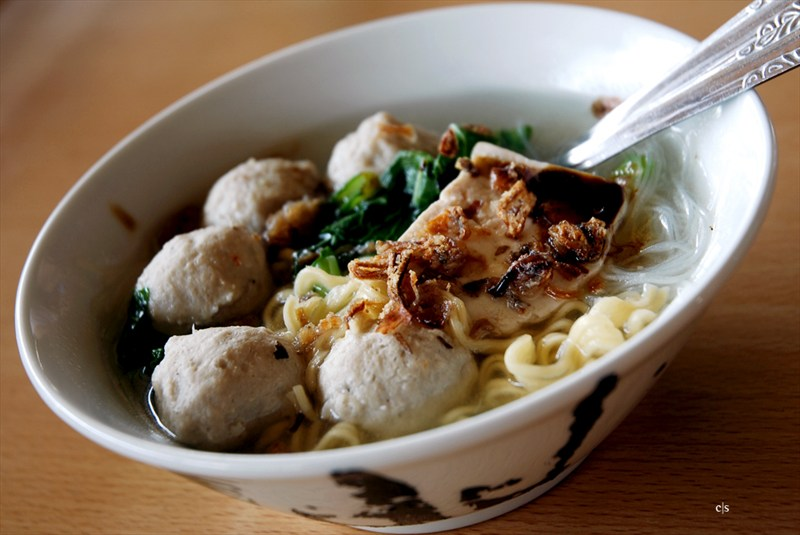Bakso: (112, 79, 733, 469)
